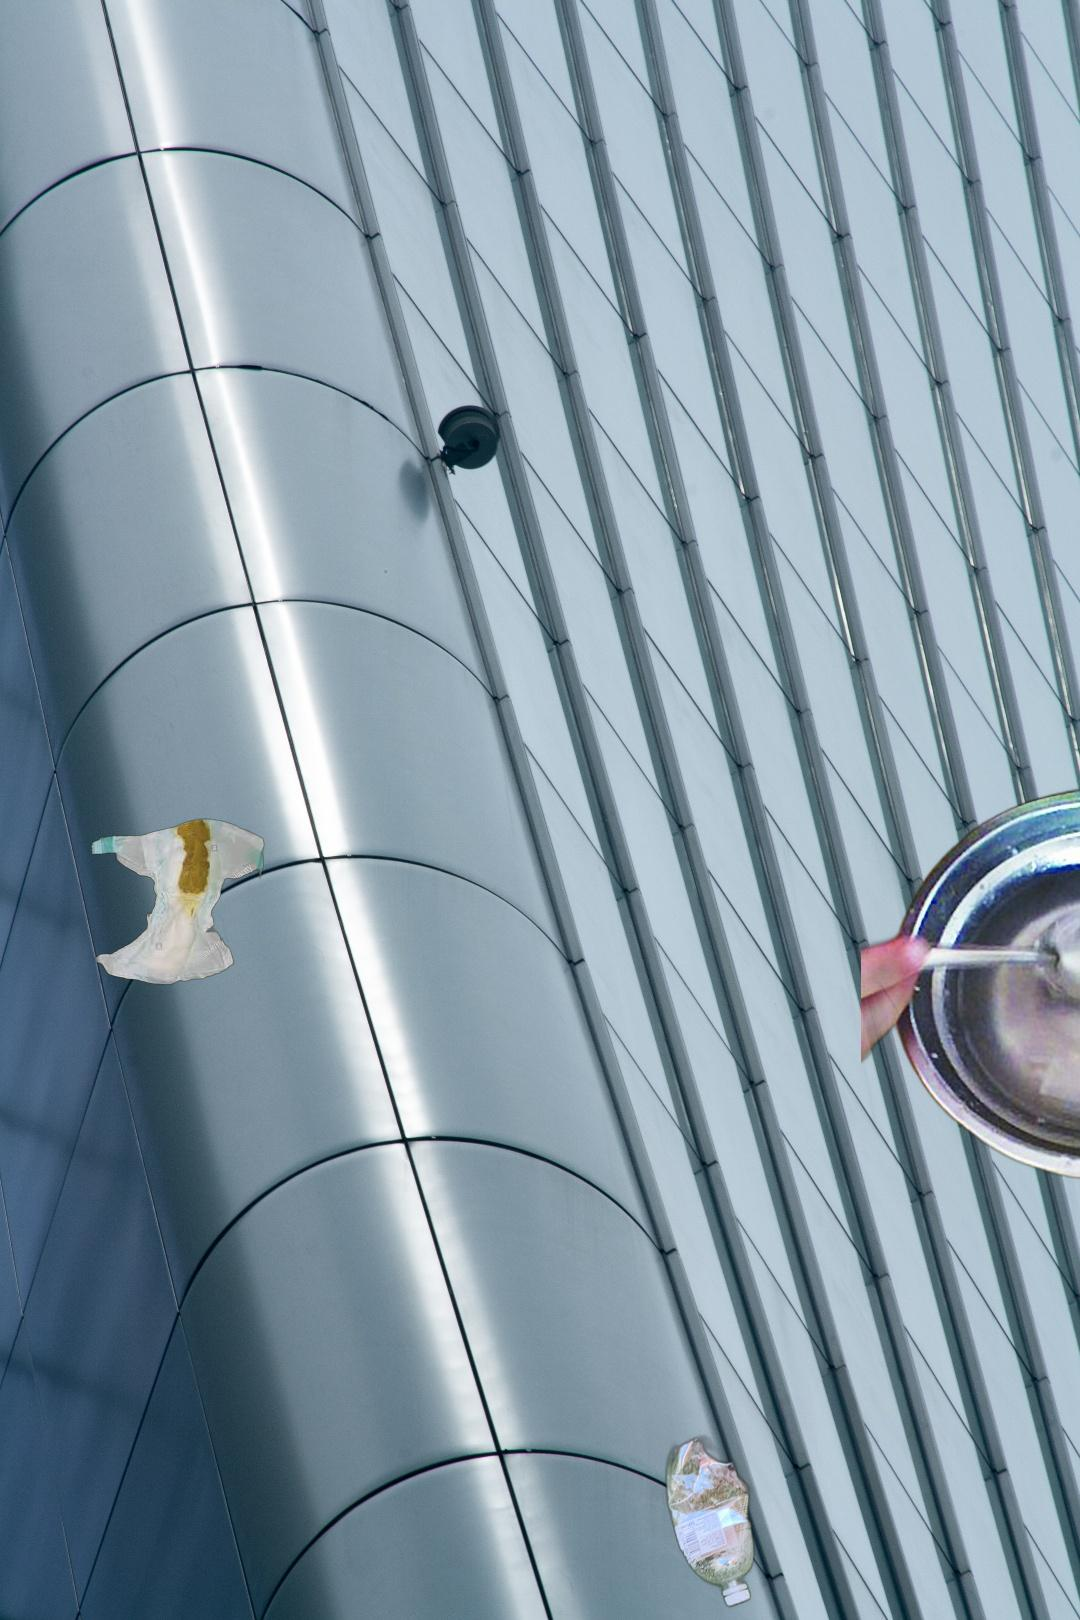biological: (861, 781, 1080, 1184)
metal-cans: (399, 1536, 569, 1620)
plastic-bottles: (662, 1431, 759, 1613)
trash: (88, 816, 268, 988)
